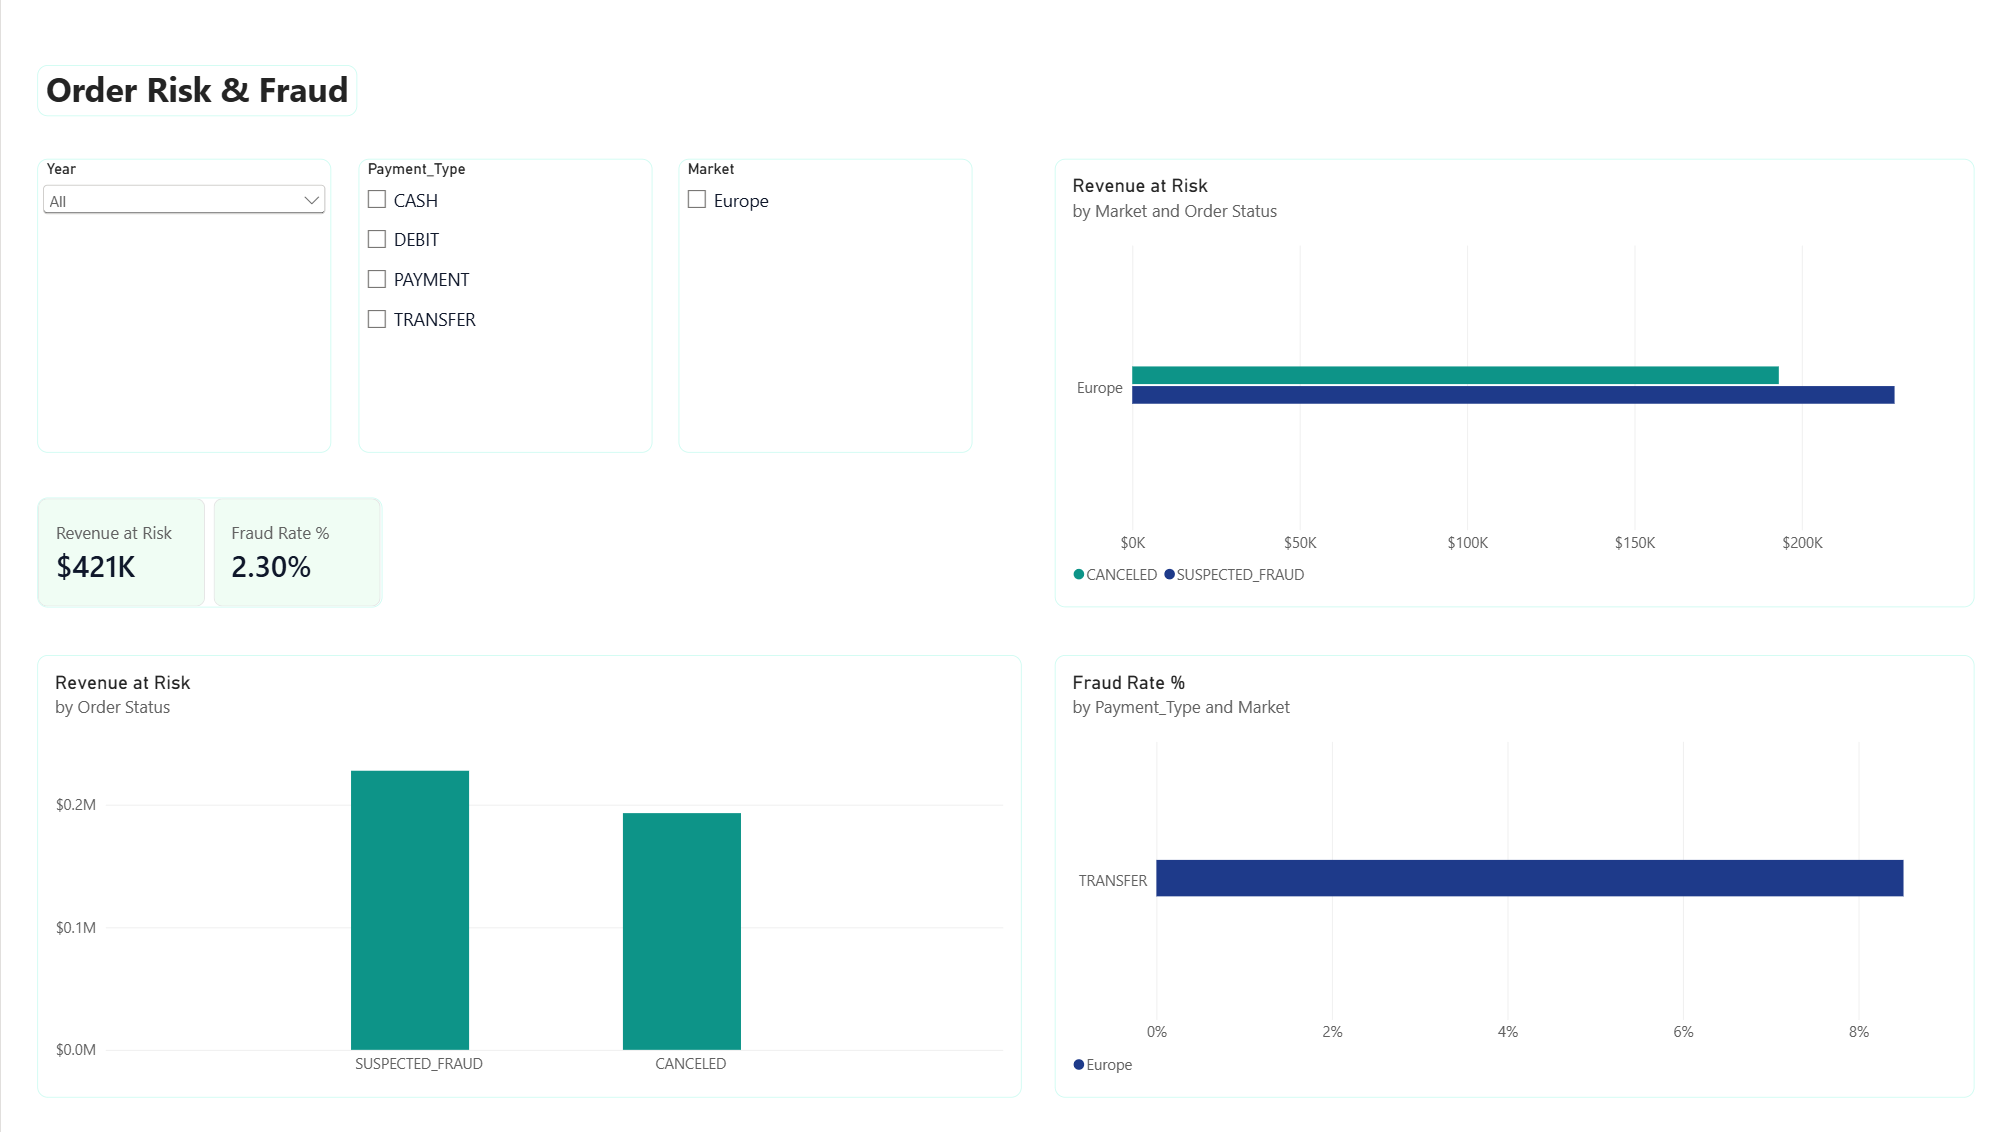

The page's visual inventory and layout, read from the dashboard file:
{"tool":"powerbi","page":{"name":"Order Risk & Fraud Monitor","canvas":[1920,1080],"ordinal":3},"visuals":[{"type":"slicer","fields":{"Values":["Dim_Date.Year"]},"box":[35,151,280,280],"z":0},{"type":"slicer","fields":{"Values":["Fact_Orders.Payment_Type"]},"box":[340,151,280,280],"z":1000},{"type":"slicer","fields":{"Values":["Dim_Geography.Market"]},"box":[645,151,280,280],"z":2000},{"type":"cardVisual","fields":{"Data":["_Measures.Revenue at Risk","_Measures.Fraud Rate %"]},"box":[35,473.8,328.8,105],"z":3000},{"type":"clusteredColumnChart","fields":{"Category":["Fact_Orders.Order Status"],"Y":["_Measures.Revenue at Risk"]},"box":[35,623.8,937.5,421.2],"z":4000},{"type":"clusteredBarChart","fields":{"Category":["Fact_Orders.Payment_Type"],"Series":["Dim_Geography.Market"],"Y":["_Measures.Fraud Rate %"]},"box":[1003.8,623.8,876.2,421.2],"z":5000},{"type":"textbox","box":[35,62.5,305,48.8],"z":6000},{"type":"clusteredBarChart","fields":{"Category":["Dim_Geography.Market"],"Series":["Fact_Orders.Order Status"],"Y":["_Measures.Revenue at Risk"]},"box":[1003.8,151.2,876.2,427.5],"z":7000}]}

Visuals, with their boxes in screenshot pixels (x1, y1, x2, y2), scaled from the page's 1920x1080 canvas onto the 2015x1132 screenshot:
slicer - Dim_Date.Year: x1=37, y1=158, x2=331, y2=452
slicer - Fact_Orders.Payment_Type: x1=357, y1=158, x2=651, y2=452
slicer - Dim_Geography.Market: x1=677, y1=158, x2=971, y2=452
cardVisual - _Measures.Revenue at Risk x _Measures.Fraud Rate %: x1=37, y1=497, x2=382, y2=607
clusteredColumnChart - Fact_Orders.Order Status x _Measures.Revenue at Risk: x1=37, y1=654, x2=1021, y2=1095
clusteredBarChart - Fact_Orders.Payment_Type x Dim_Geography.Market: x1=1053, y1=654, x2=1973, y2=1095
textbox: x1=37, y1=66, x2=357, y2=117
clusteredBarChart - Dim_Geography.Market x Fact_Orders.Order Status: x1=1053, y1=158, x2=1973, y2=607
